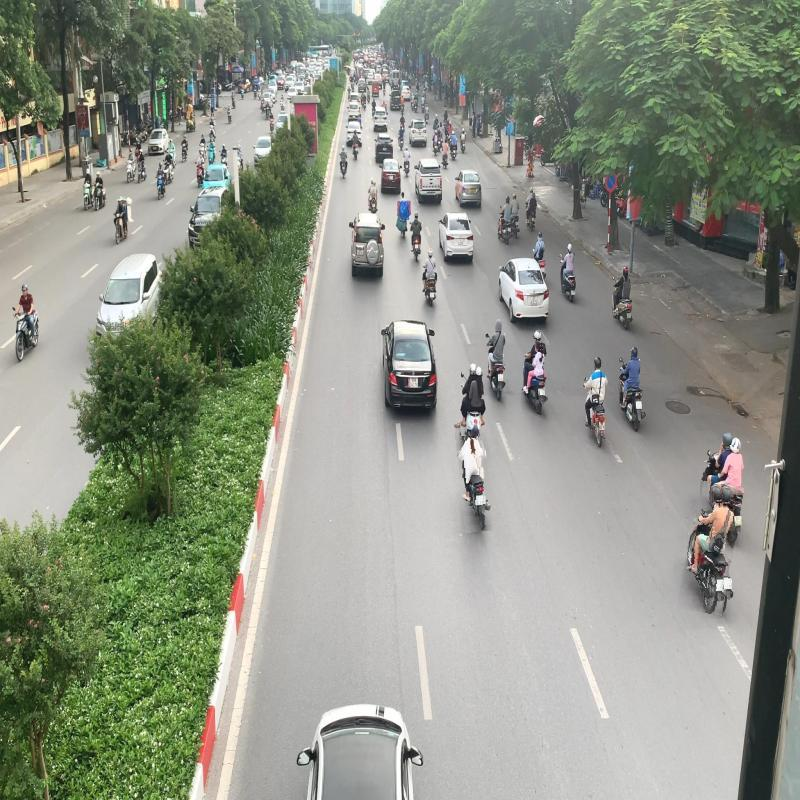helmet: (712, 483, 722, 503), (731, 437, 742, 453), (722, 432, 732, 446), (472, 423, 480, 438), (470, 363, 477, 375), (476, 366, 482, 376), (534, 330, 540, 339)
licenseplate: (723, 576, 732, 589), (475, 494, 484, 506), (734, 516, 742, 526), (539, 388, 545, 395)
motorcyclist: (683, 482, 739, 614), (457, 422, 491, 532), (522, 330, 548, 414), (461, 361, 485, 436)
nohelmet: (536, 341, 542, 352)
